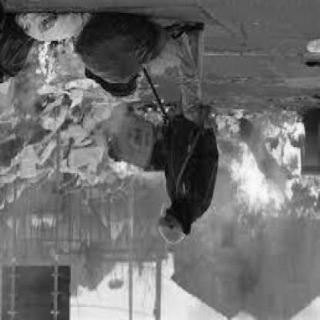Smoke: (233, 238, 287, 310)
